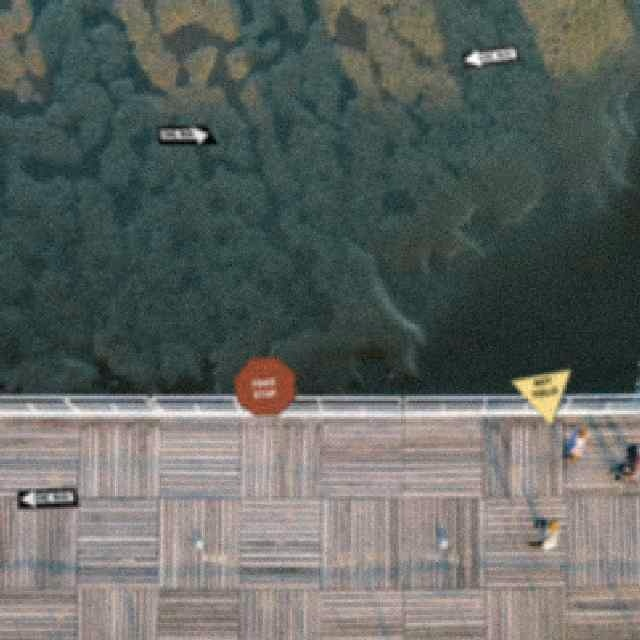FAKE_STOP: (232, 354, 295, 415)
NOT_YIELD: (508, 367, 571, 426)
ONE_WAY_ left: (457, 42, 520, 69), (15, 485, 78, 508)
ONE_WAY_ right: (155, 124, 218, 144)
